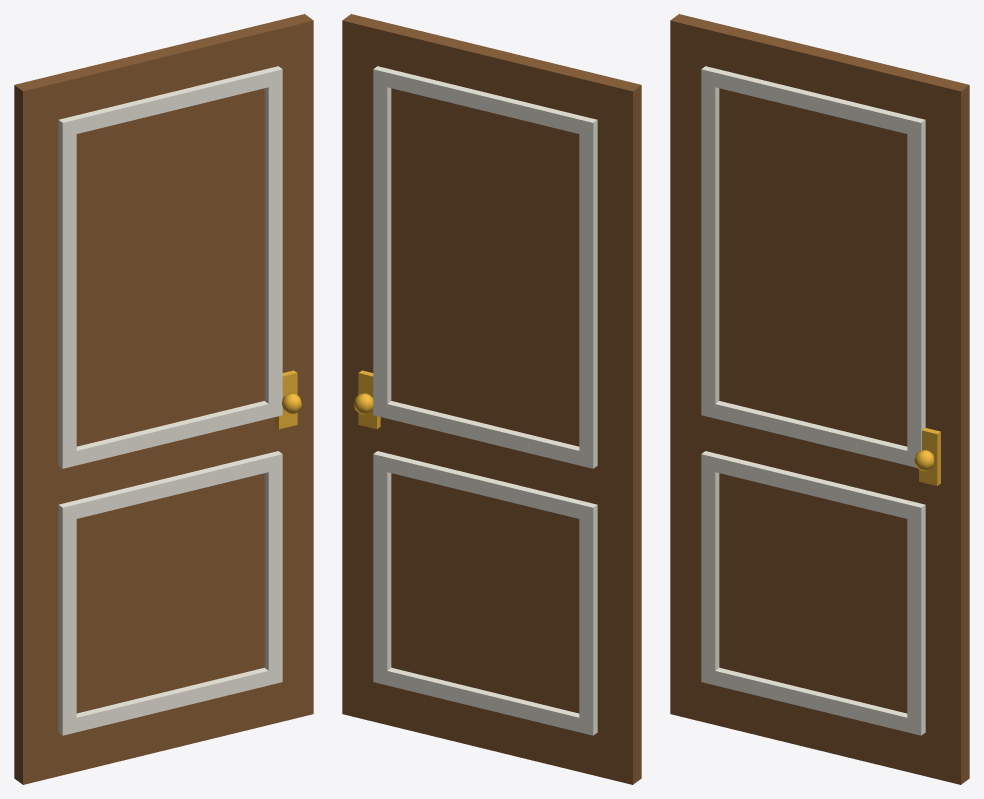
File: SM_Door_ra_inner_95x215.fbx
3 renders of one model, left to right at view 1: azimuth 30°, elevation 25°; view 2: azimuth 150°, elevation 25°; view 3: azimuth 330°, elevation 25°, orthographic.
Visible parts, largest first — view 1: SM_Door_ra_inner_95x215; view 2: SM_Door_ra_inner_95x215; view 3: SM_Door_ra_inner_95x215.
Part boxes in pixels (left/top/right/bottom): SM_Door_ra_inner_95x215: left=14, top=14, right=313, bottom=784; SM_Door_ra_inner_95x215: left=342, top=14, right=641, bottom=784; SM_Door_ra_inner_95x215: left=670, top=14, right=969, bottom=784.
Size of the model in its own units: 0.938 by 2.14 by 0.19.
